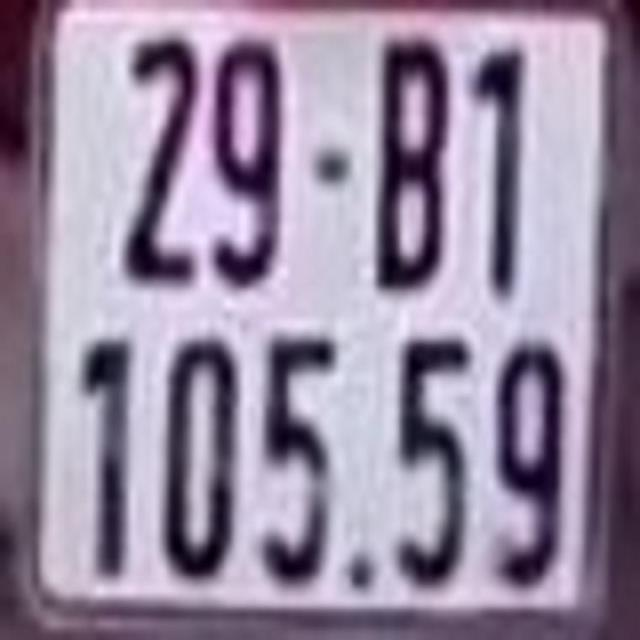0: (166, 337, 237, 578)
1: (468, 25, 520, 289), (78, 332, 129, 574)
2: (125, 31, 198, 282)
5: (399, 330, 476, 596), (266, 330, 330, 585)
9: (493, 332, 566, 591), (212, 39, 287, 276)
B: (379, 37, 446, 286)
